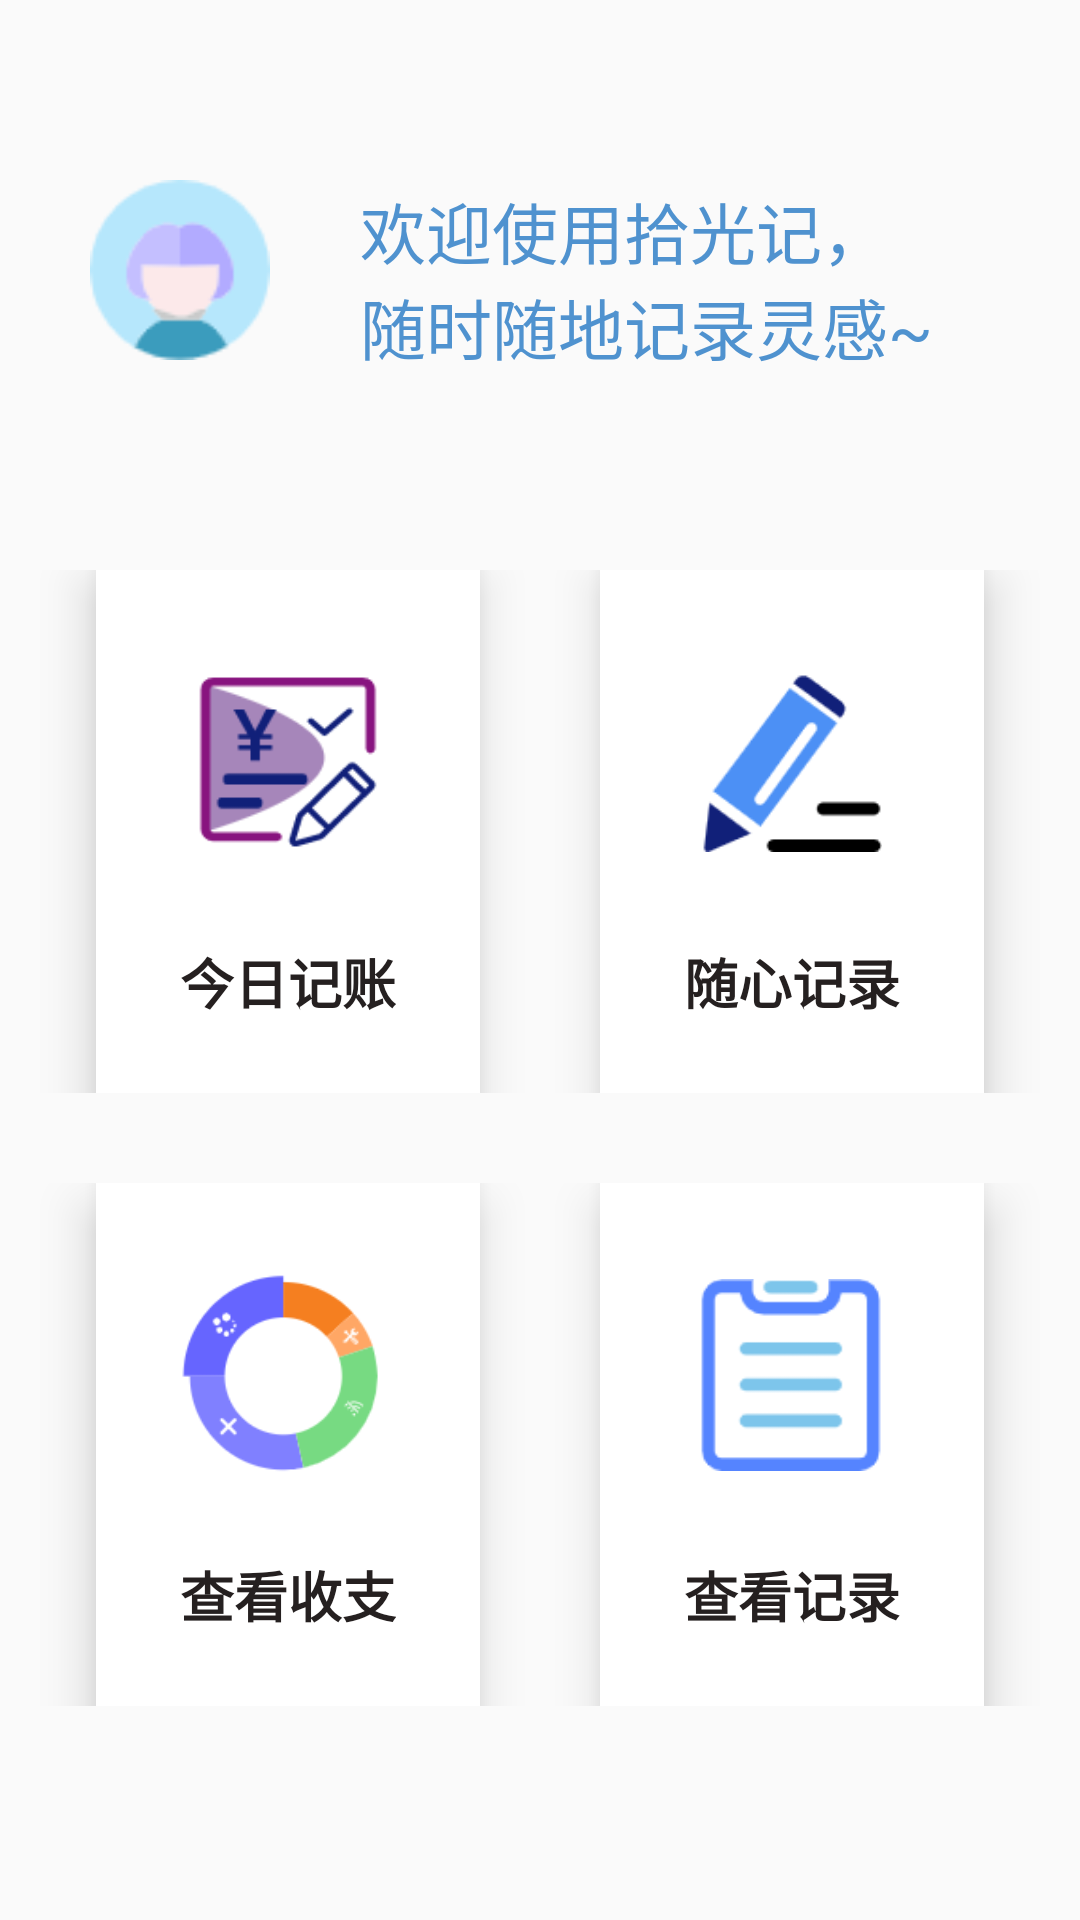

Named icons in this screenshot (1080w x 1920h) and their centers, (x,y):
head: (180,270)
revenue: (288,762)
